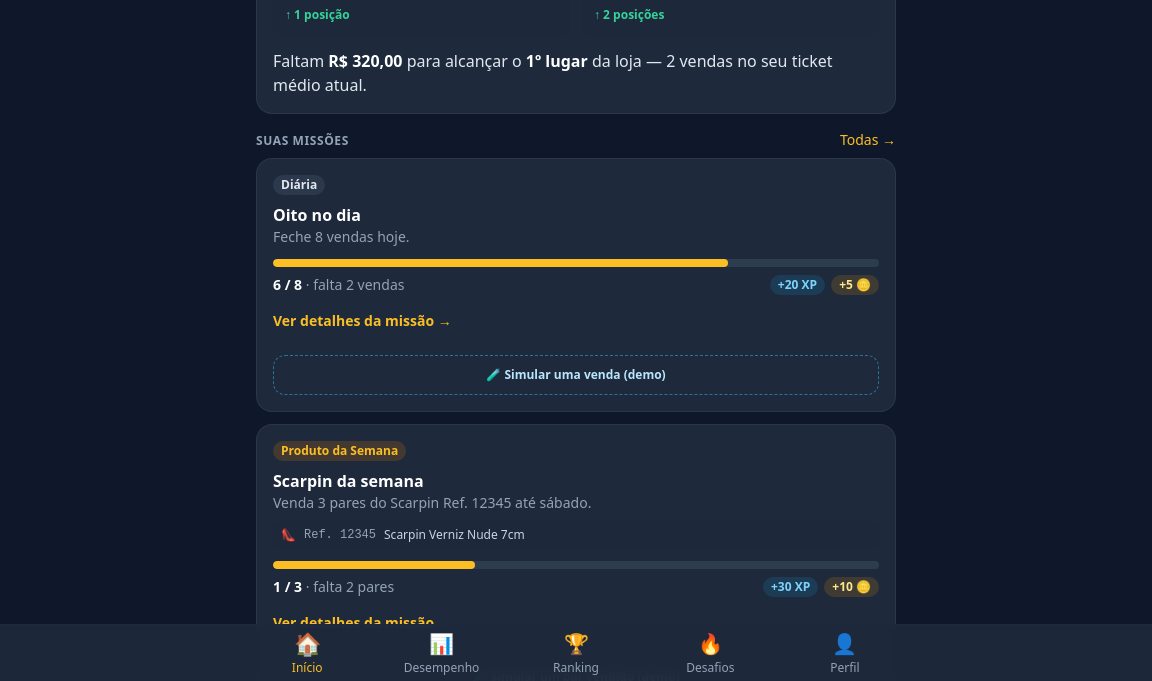
Test: Fase 1 — navegação mobile com Voltar explícito › Home → missão → detalhe → Voltar volta para a Home
This screenshot has width=1152, height=681.
(page scrolled)
Click the link "Ver detalhes da missão →" at [362, 321], box [273, 311, 452, 330]
(page scrolled)
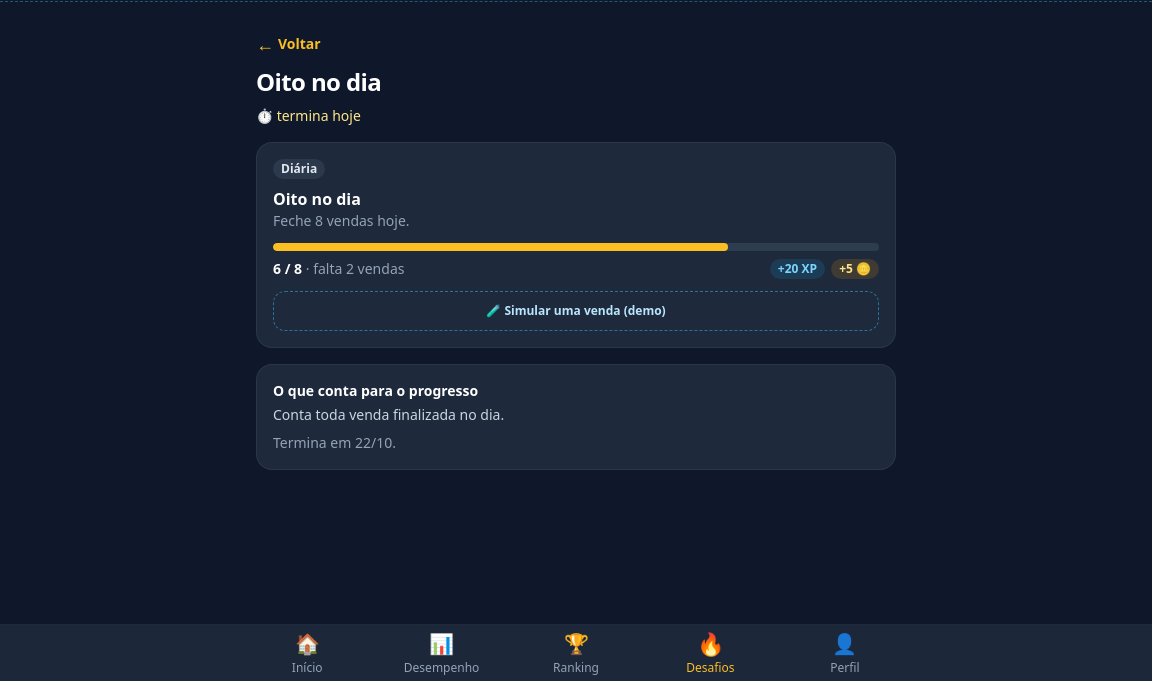
Expected: the heading "O que conta para o progresso" is shown, [273, 381, 478, 400]
Click the button "← Voltar" at [288, 44], box [248, 22, 329, 66]
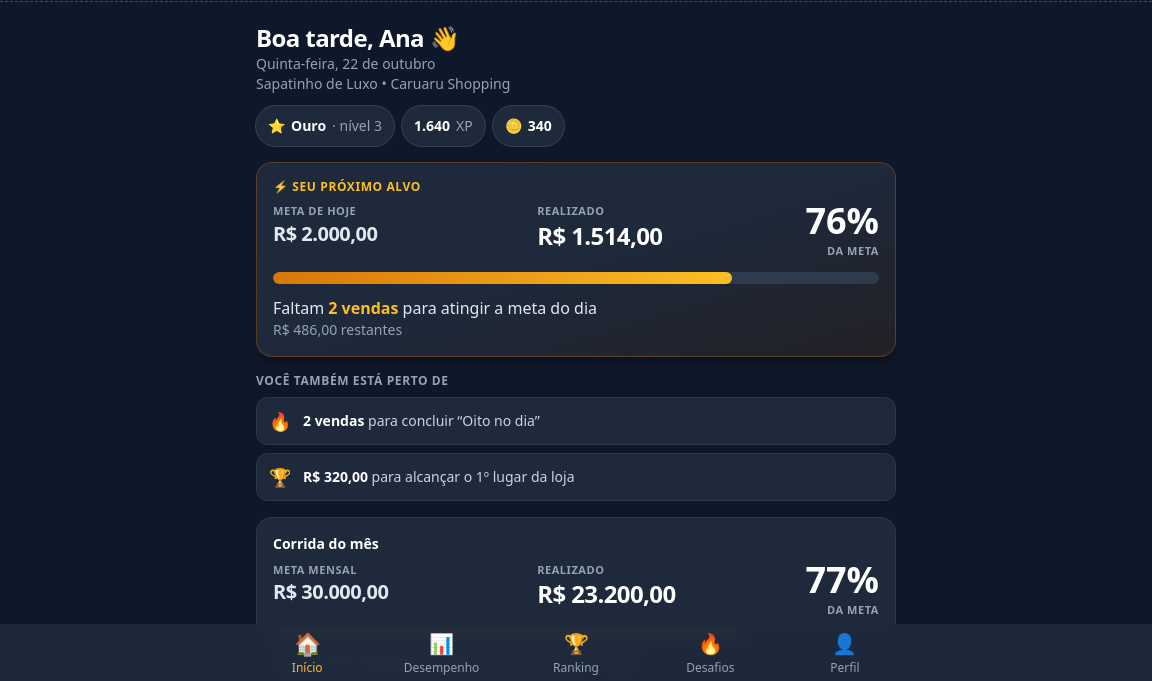
Expected: the element "Meta de hoje" is shown, [256, 162, 896, 356]
